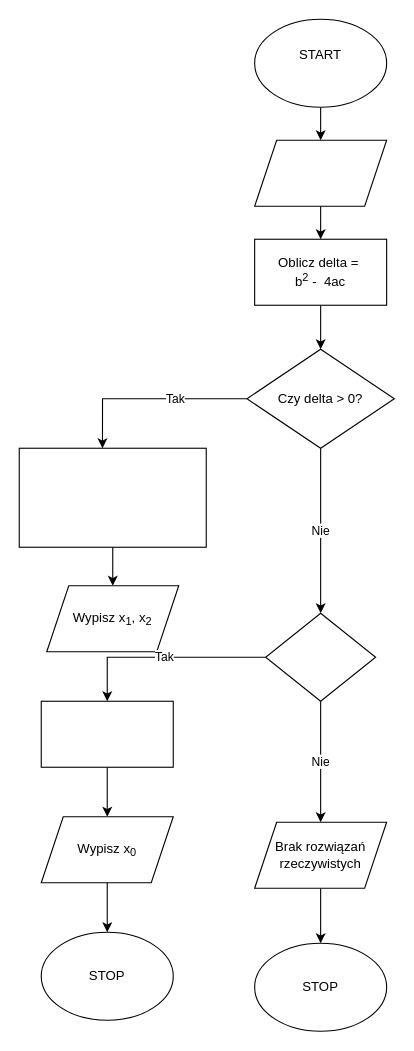
The diagram is 414 pixels wide and 1051 high, and some of its shapes have lost their labels. Here are the shapes that lost their labels. From the top down, the box of each, then its label:
(254, 139, 387, 206): Wczytaj a, b, c
(18, 447, 206, 547): Oblicz x 1 , x 2 x 1,2 = (-b ± √Δ) / (2a)
(265, 612, 376, 701): Czy delta = 0?
(40, 700, 173, 767): Oblicz x 0
